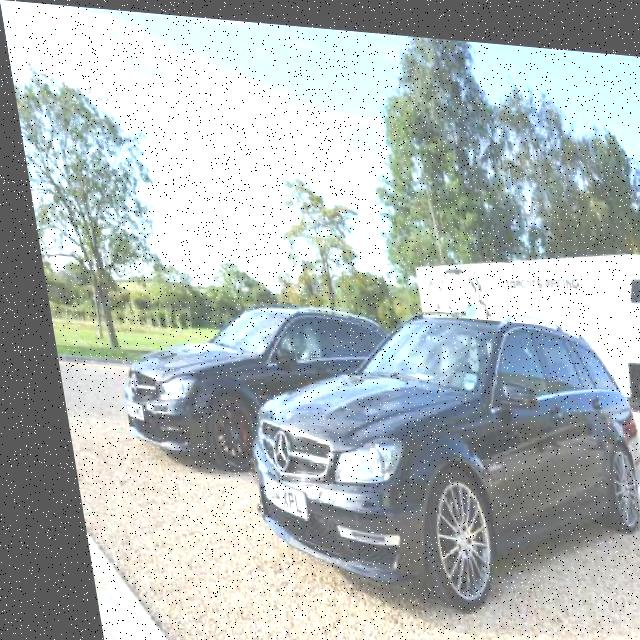license_plate: (246, 468, 294, 518), (110, 398, 130, 421)
